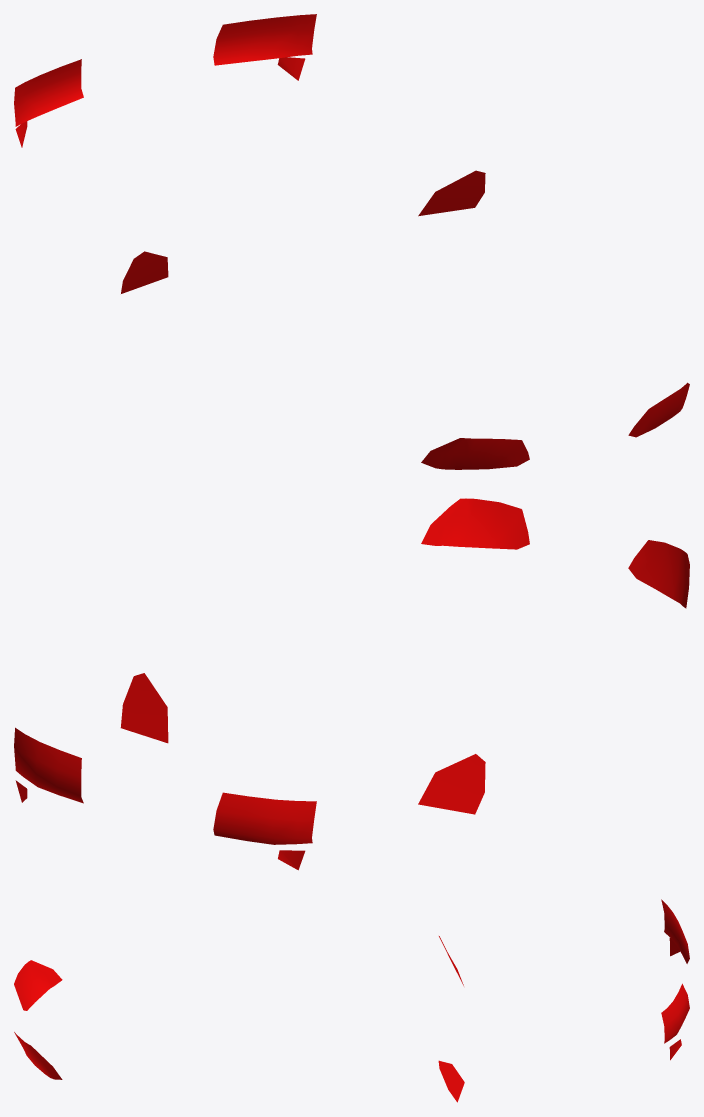
The model's file is Murcielago-AirTakesDark.fbx.
3 views of the same model, one above another, from view 1: azimuth 30°, elevation 25°; view 2: azimuth 150°, elevation 25°; view 3: azimuth 270°, elevation 25° (orthographic). The views are drawn at different scales.
Parts seen in each view (by area): view 1: P_BackAirTake2, polymsh123, polymsh, P_BackAirTake3; view 2: polymsh123, polymsh, P_BackAirTake3, P_BackAirTake2; view 3: polymsh123, P_BackAirTake2, P_BackAirTake3, polymsh.
Boxes of the visible parts, x1,y1,x2,y2 form: P_BackAirTake2: [213, 14, 316, 80]; polymsh123: [421, 382, 689, 469]; polymsh: [121, 170, 485, 293]; P_BackAirTake3: [14, 59, 83, 147]; polymsh123: [421, 498, 689, 608]; polymsh: [120, 673, 485, 814]; P_BackAirTake3: [213, 792, 316, 870]; P_BackAirTake2: [14, 727, 83, 803]; polymsh123: [14, 960, 62, 1079]; P_BackAirTake2: [661, 983, 689, 1060]; P_BackAirTake3: [661, 899, 689, 963]; polymsh: [438, 936, 464, 1102].
Size of the model in its own units: 4.23 by 1.16 by 8.86.
